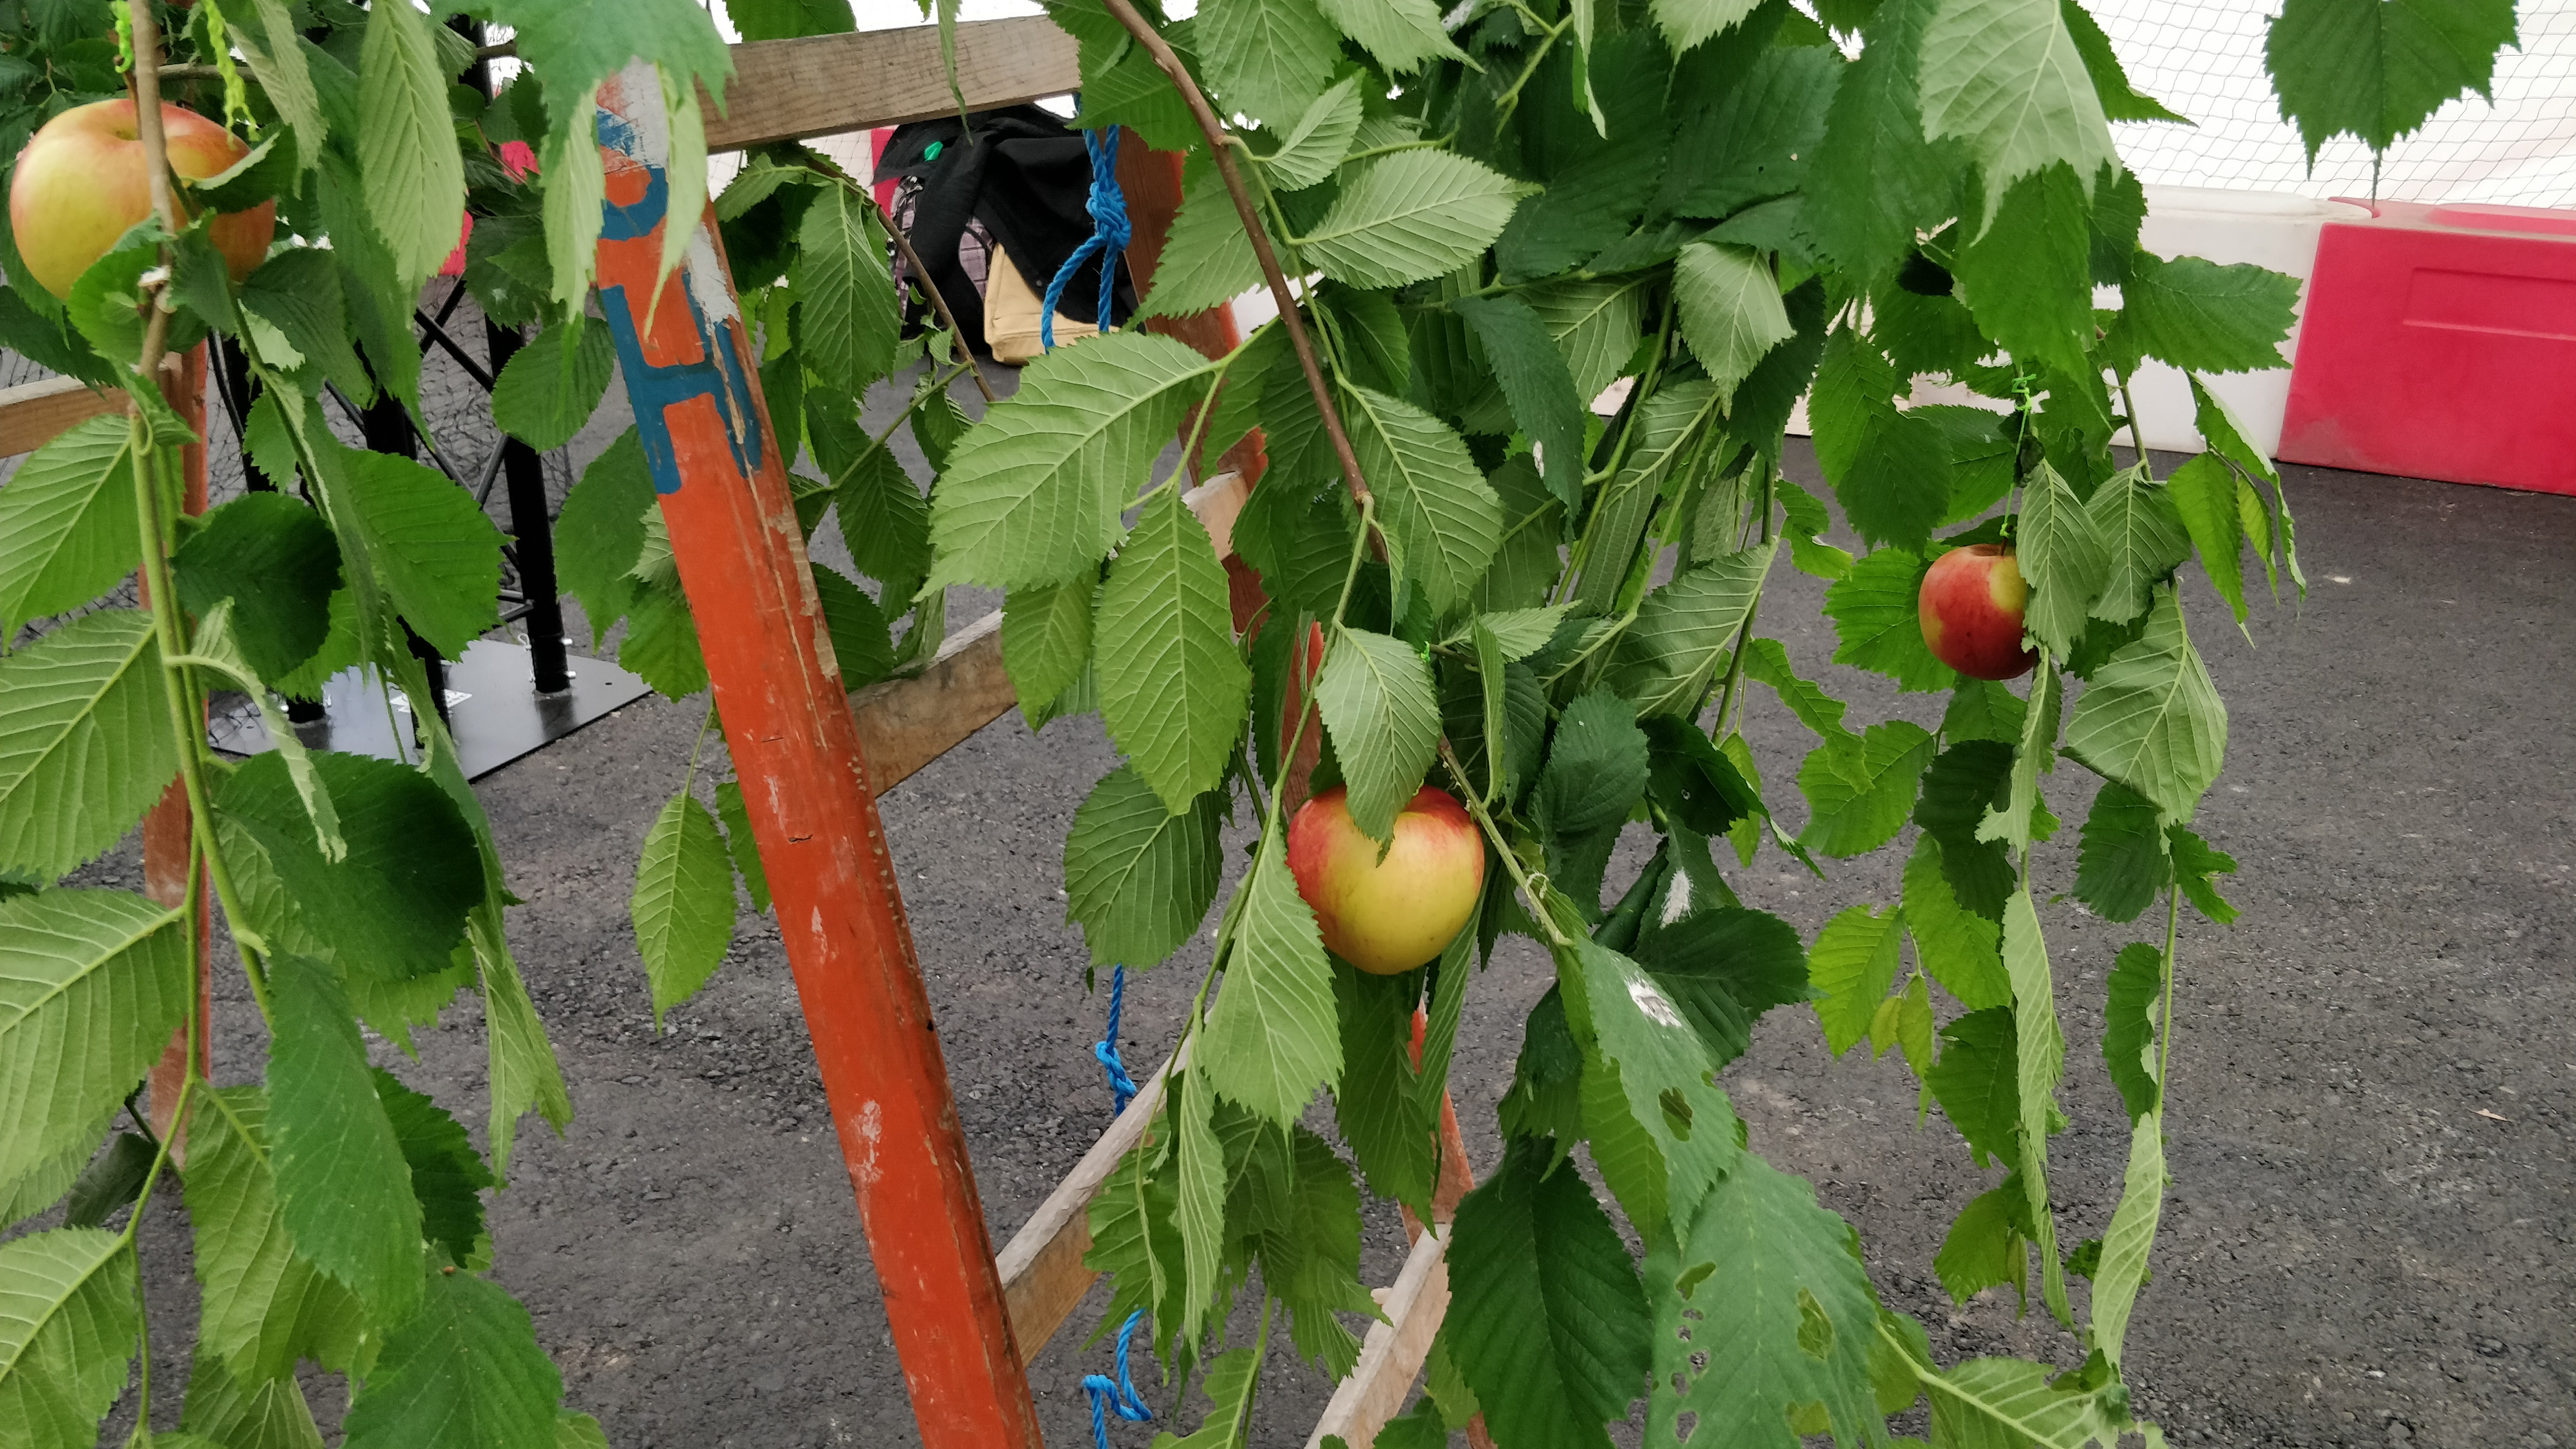apple: (21, 108, 264, 308), (1286, 793, 1483, 973), (1914, 547, 2043, 681)
